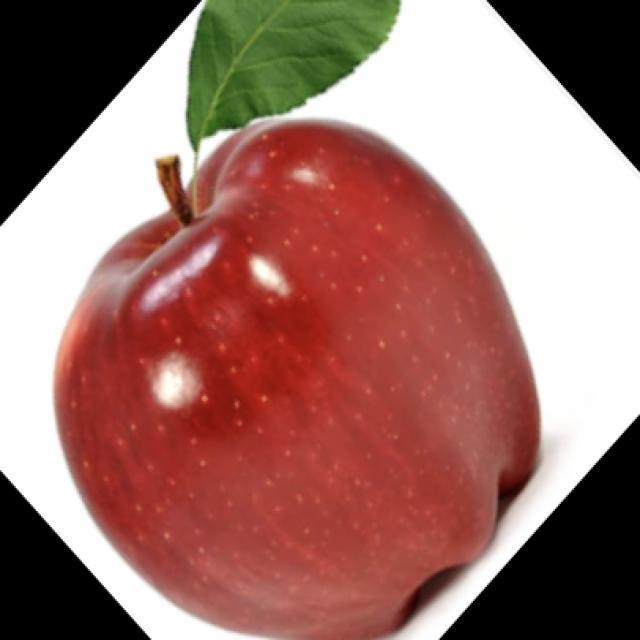Apple: (51, 116, 542, 639)
